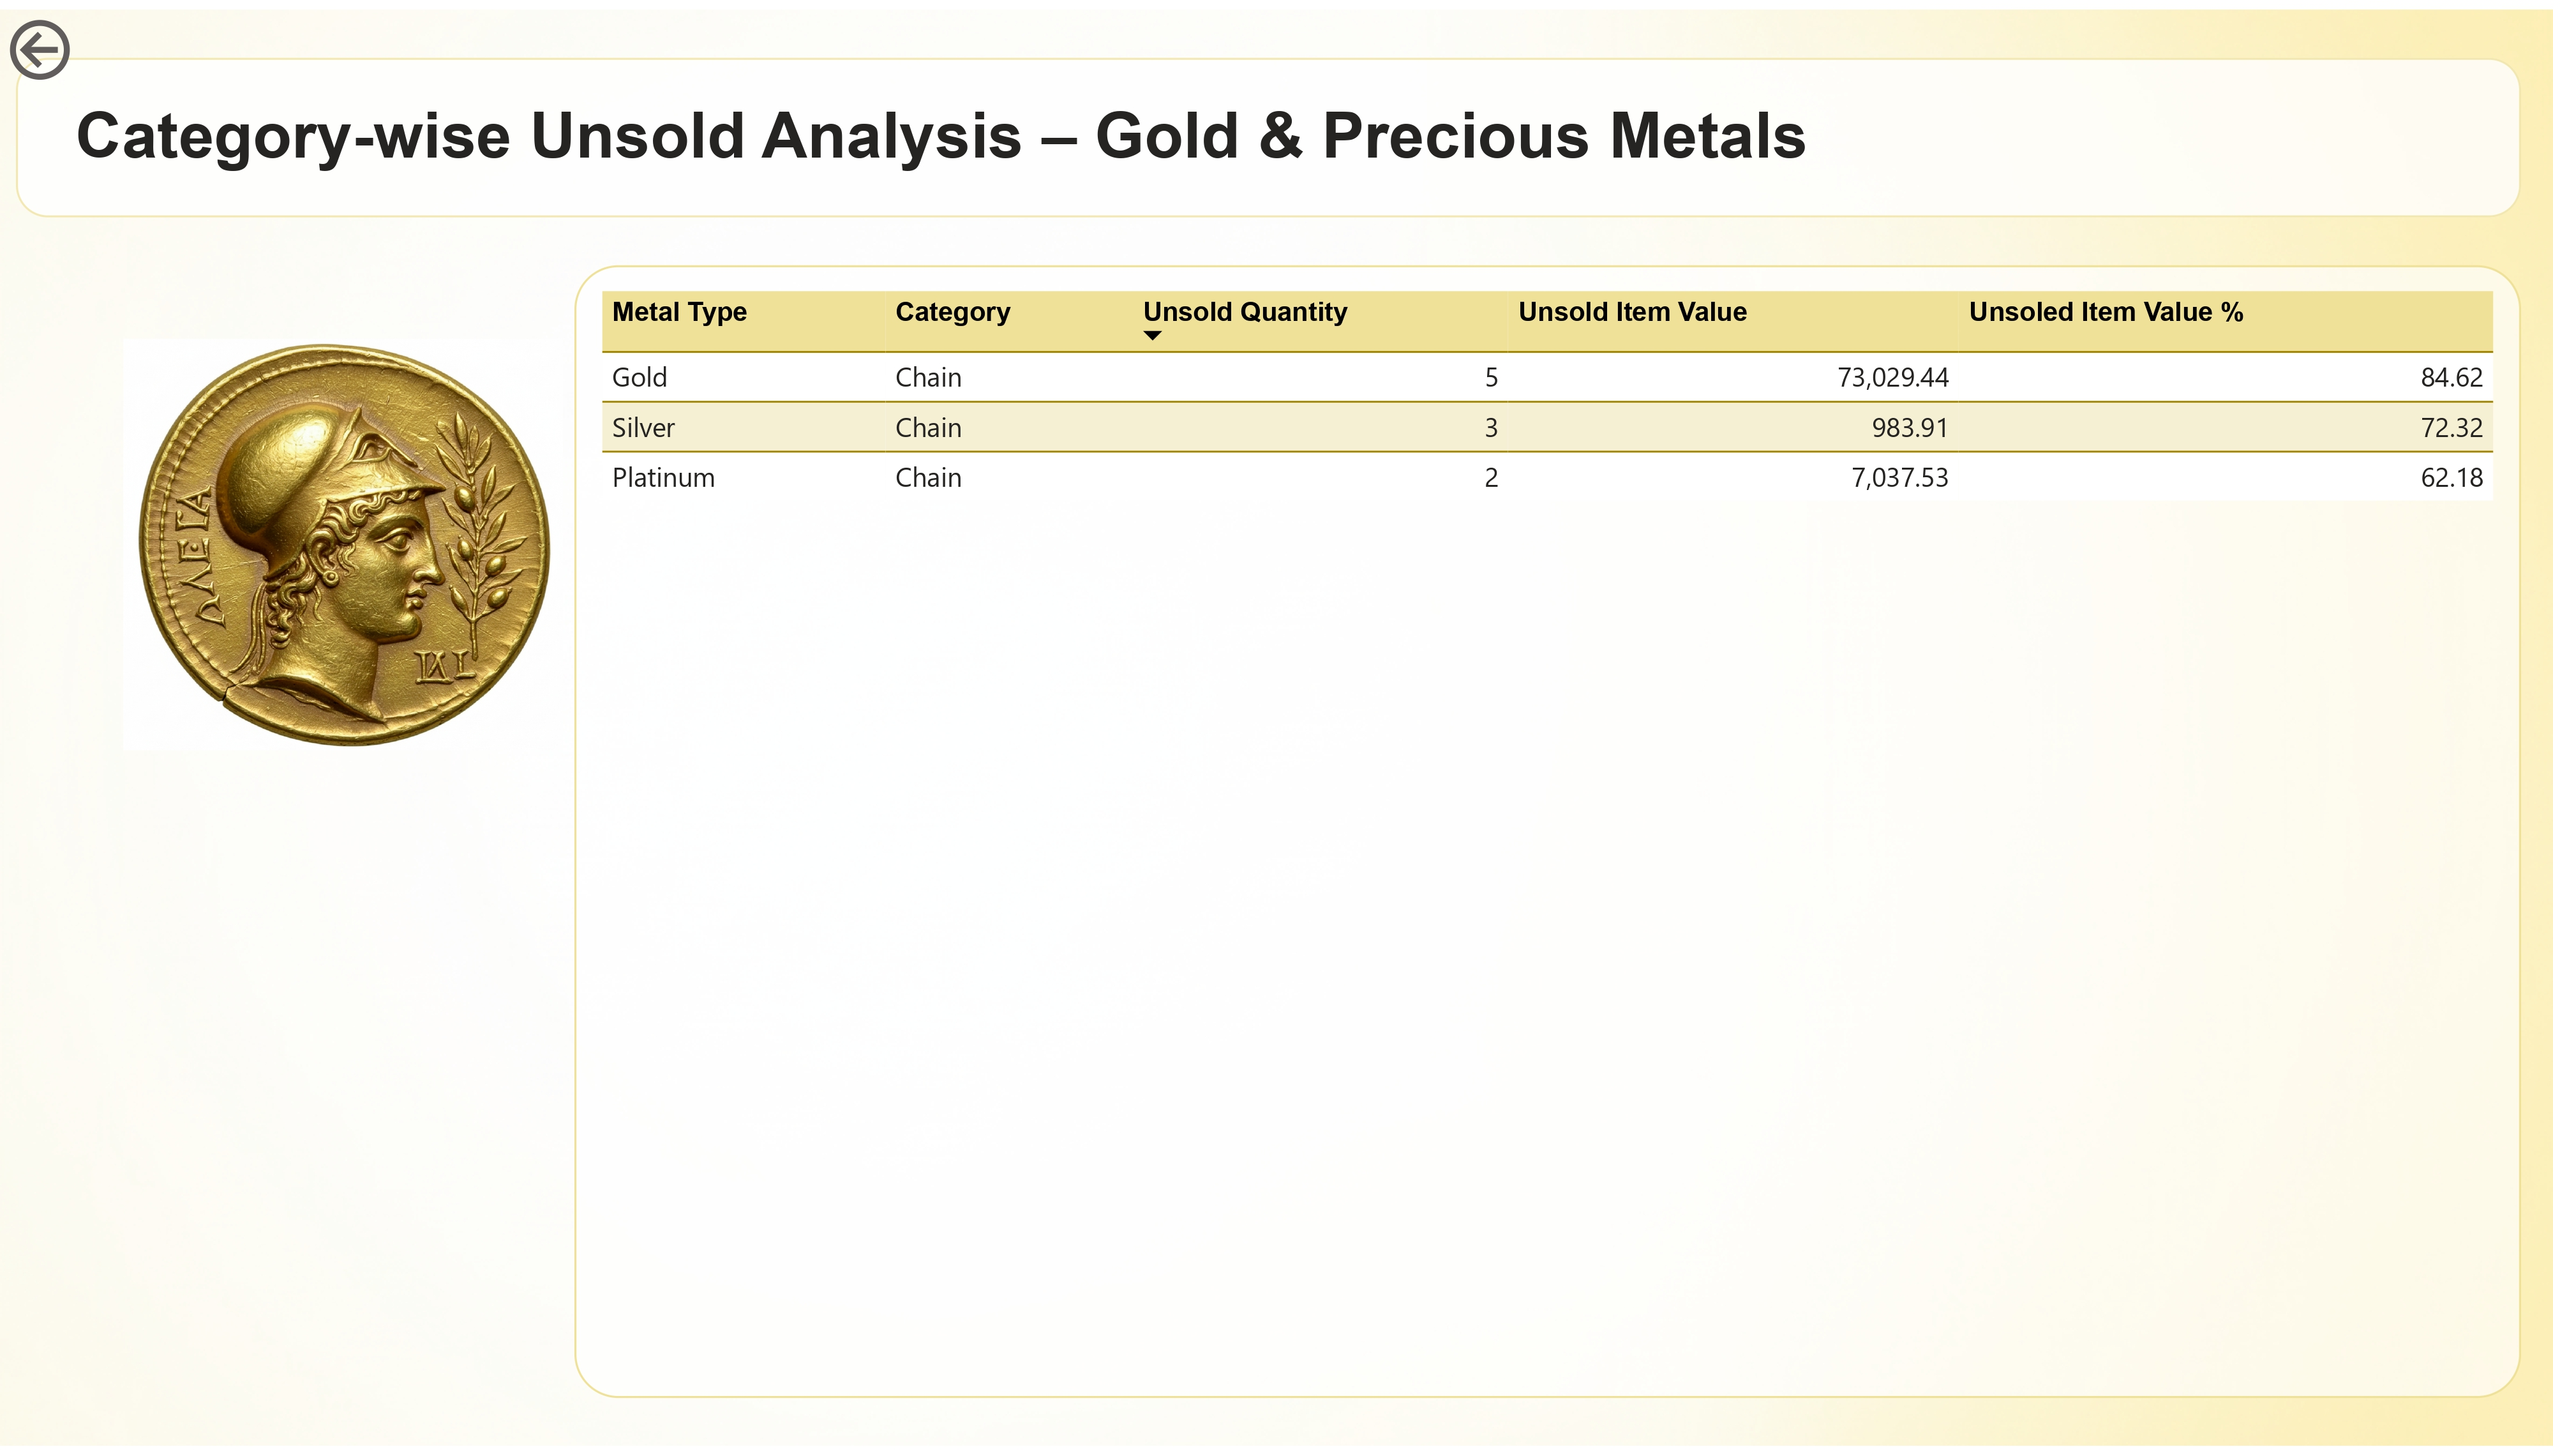

Layout of this report page (visuals, bound fields, positions):
{"tool":"powerbi","page":{"name":"Category Details Analysis","canvas":[1280,720],"ordinal":2},"visuals":[{"type":"shape","box":[8,24,1256,80],"z":0},{"type":"textbox","box":[24,40,984,56],"z":1000},{"type":"image","box":[0,160,344,216],"z":2000},{"type":"tableEx","title":"Total Inventory Value by Category","fields":{"Values":["Inventory.Metal Type","Inventory.Category","KeyMeasures.Unsold Quantity","KeyMeasures.Unsold Value AED","KeyMeasures.Unsoled Item Value %"]},"box":[288,128,976,568],"z":3000},{"type":"actionButton","box":[0,0,100,40],"z":4000}]}

Visuals, with their boxes in screenshot pixels (x1, y1, x2, y2), scaled from the page's 1280x720 canvas onto the 2553x1456 screenshot:
shape: locate(16, 48, 2521, 211)
textbox: locate(48, 81, 2010, 194)
image: locate(0, 323, 686, 761)
"Total Inventory Value by Category" tableEx: locate(574, 259, 2521, 1408)
actionButton: locate(0, 0, 199, 81)
